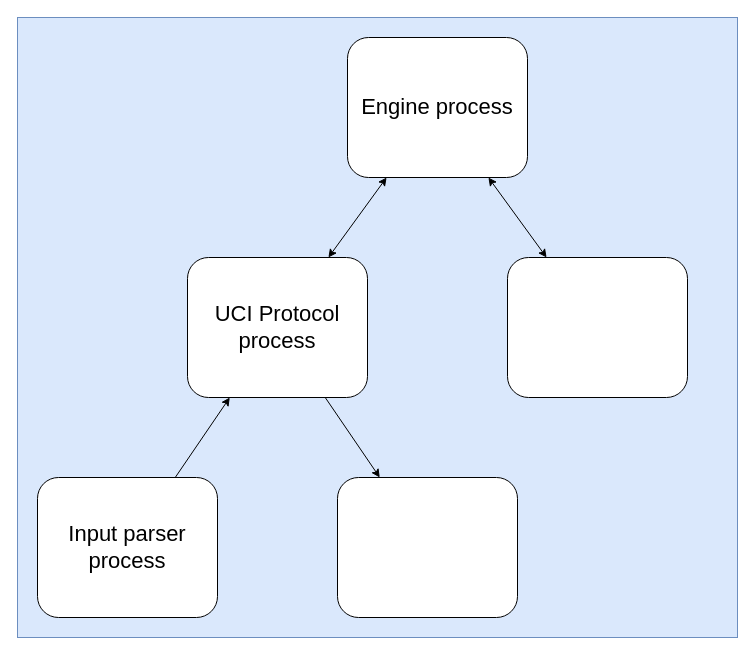
The diagram is 755 pixels wide and 655 high, and some of its shapes have lost their labels. The shapes that lost their labels are listed below. From the top down, each one's centre as x and y in pixels, then its label:
At (x=597, y=327): "Search process".
At (x=427, y=547): "Output parser process".
